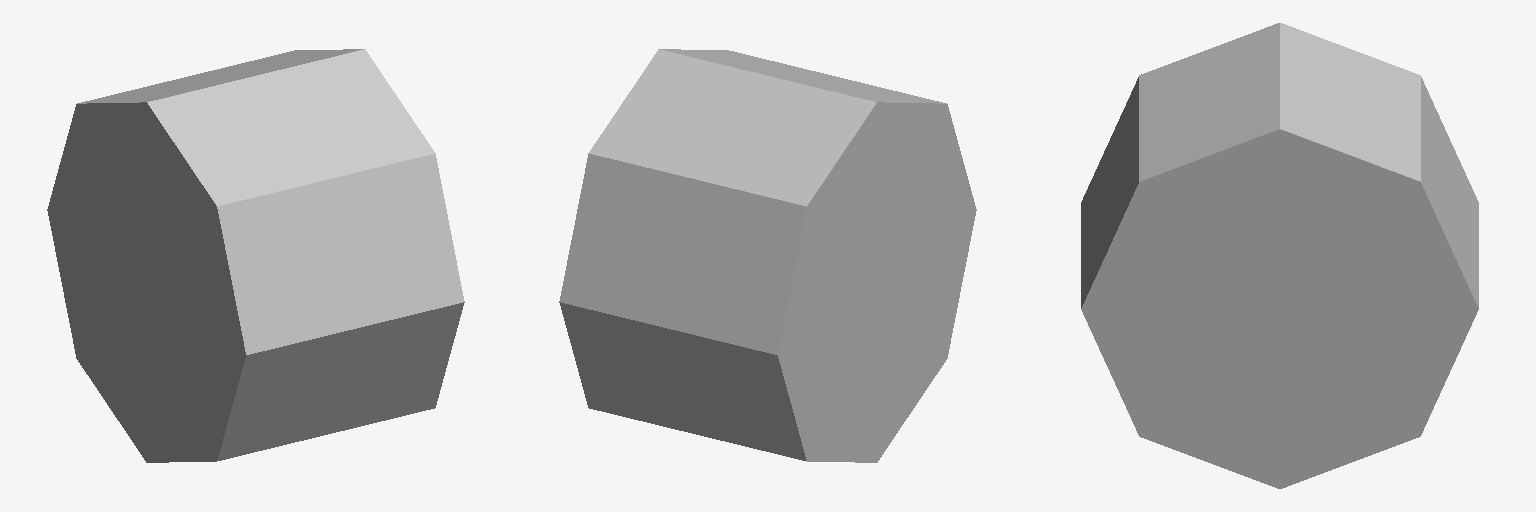
File: WheelFrontR.obj
3 views of the same model, side by side, from view 1: azimuth 30°, elevation 25°; view 2: azimuth 150°, elevation 25°; view 3: azimuth 270°, elevation 25° (orthographic).
Parts seen in each view (by area): view 1: WheelFrontR; view 2: WheelFrontR; view 3: WheelFrontR.
Part boxes in pixels (x1,y1,x2,y2): WheelFrontR: (47, 49, 464, 462); WheelFrontR: (559, 49, 976, 462); WheelFrontR: (1081, 23, 1478, 488).
Size of the model in its own units: 0.7403 by 1.17 by 1.17.